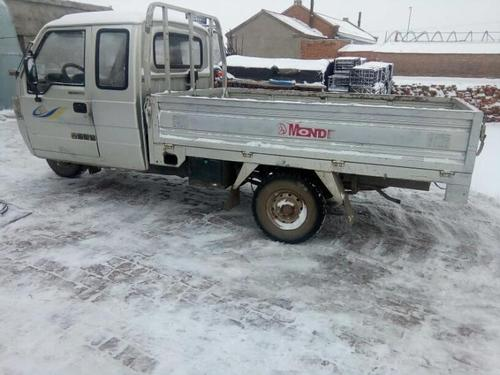truck: (13, 1, 477, 251)
